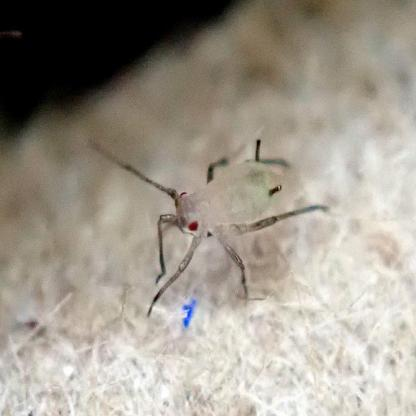aphid: (102, 115, 310, 310)
